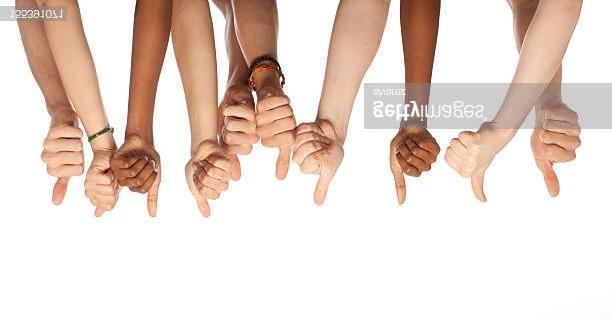thumbsdown: (536, 108, 581, 197), (293, 122, 336, 206), (391, 134, 440, 206), (40, 126, 84, 206), (255, 95, 296, 180), (110, 150, 161, 218), (443, 131, 487, 203), (187, 154, 234, 219), (220, 106, 258, 181)
